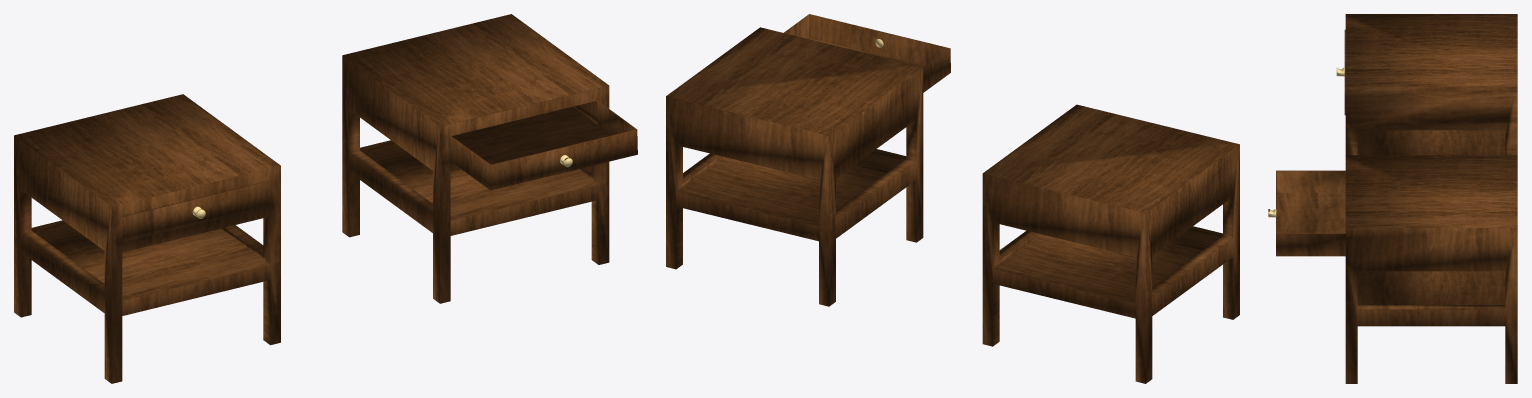
Rendered from BedsideTable.fbx.
3 renders of one model, left to right at view 1: azimuth 30°, elevation 25°; view 2: azimuth 150°, elevation 25°; view 3: azimuth 270°, elevation 25°, orthographic. The views are drawn at different scales.
Visible parts, largest first — view 1: BedsideTableOpen, BedsideTableClosed; view 2: BedsideTableOpen, BedsideTableClosed; view 3: BedsideTableOpen, BedsideTableClosed.
Boxes of the visible parts, x1,y1,x2,y2 form: BedsideTableOpen: [342, 14, 637, 303]; BedsideTableClosed: [14, 94, 280, 383]; BedsideTableOpen: [666, 14, 950, 306]; BedsideTableClosed: [982, 104, 1239, 383]; BedsideTableOpen: [1268, 155, 1517, 383]; BedsideTableClosed: [1336, 14, 1517, 155].
Bounding box in the file's own units: 208 × 70.73 × 102.
